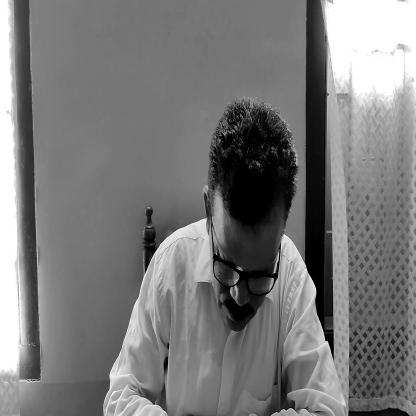Normal: (212, 107, 290, 328)
